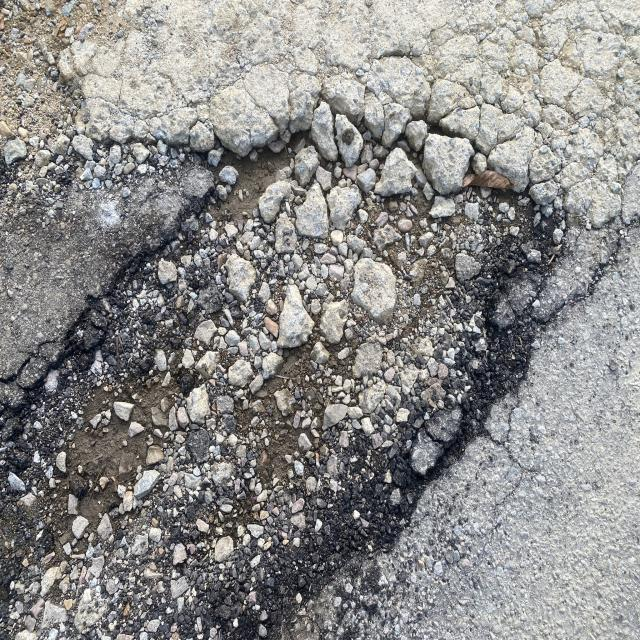Pothole: (17, 79, 599, 640)
